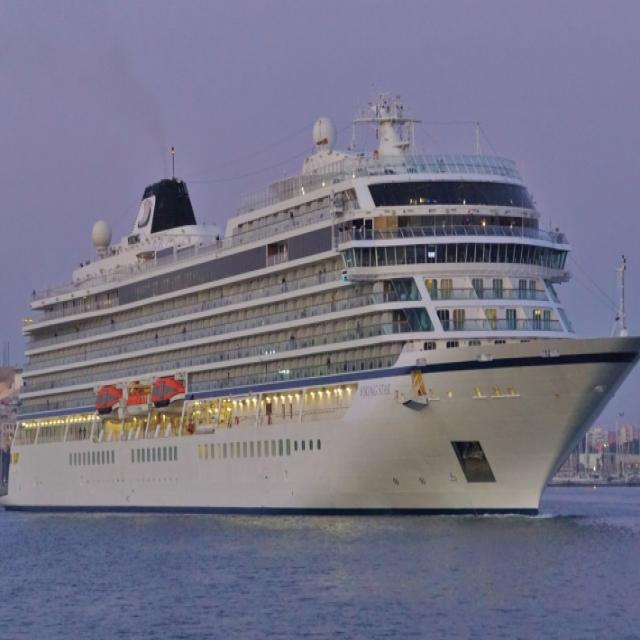cruises: (1, 78, 640, 527)
